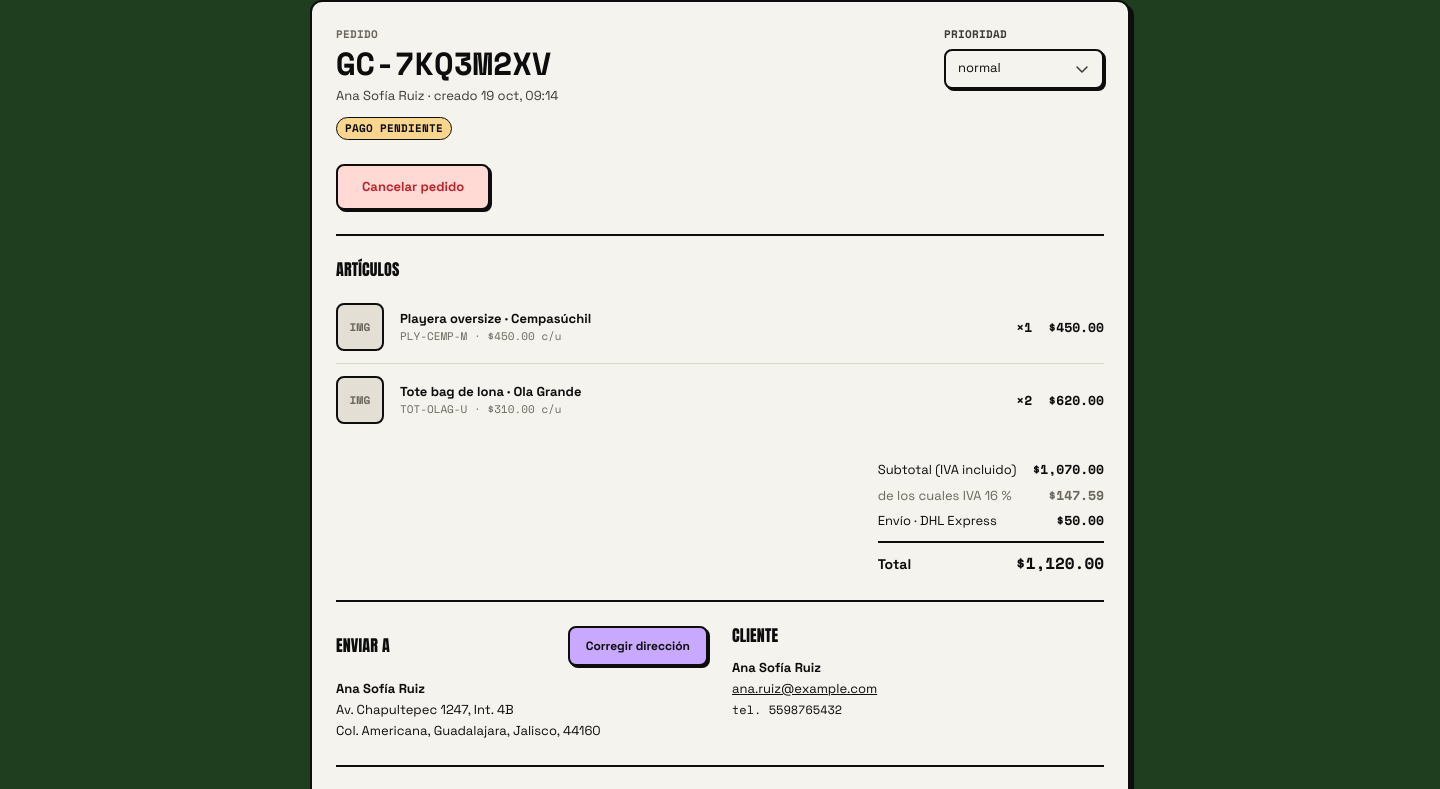
Scenario: OrderDetail: errores de la API en los diálogos › si cancelar falla, el diálogo sigue abierto y el motivo escrito no se pierde
Click the button "Cancelar pedido" at [413, 187], box [336, 164, 490, 210]
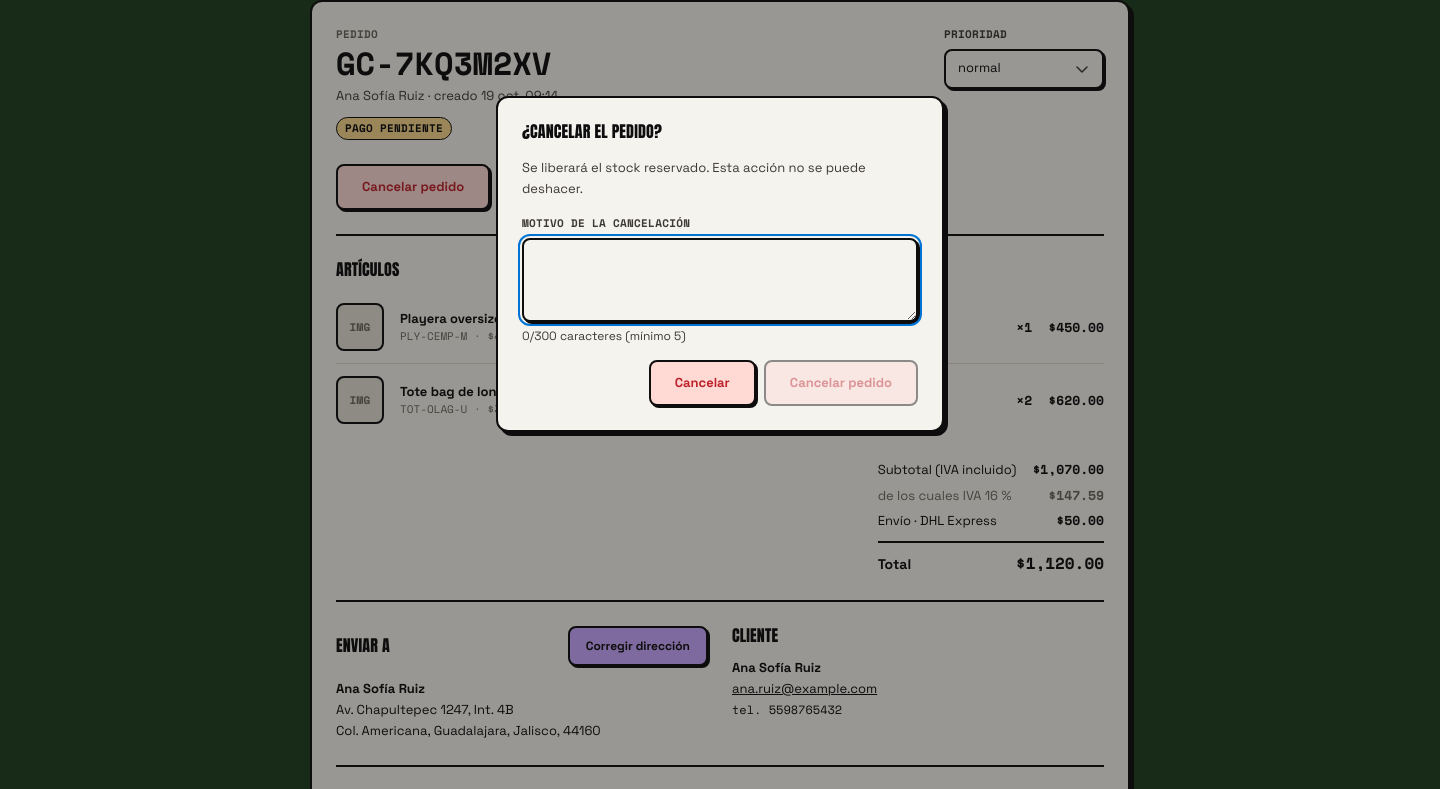
Type "El cliente lo pidió" into the text box labelled "Motivo de la cancelación" at [720, 280], box [522, 238, 918, 322]
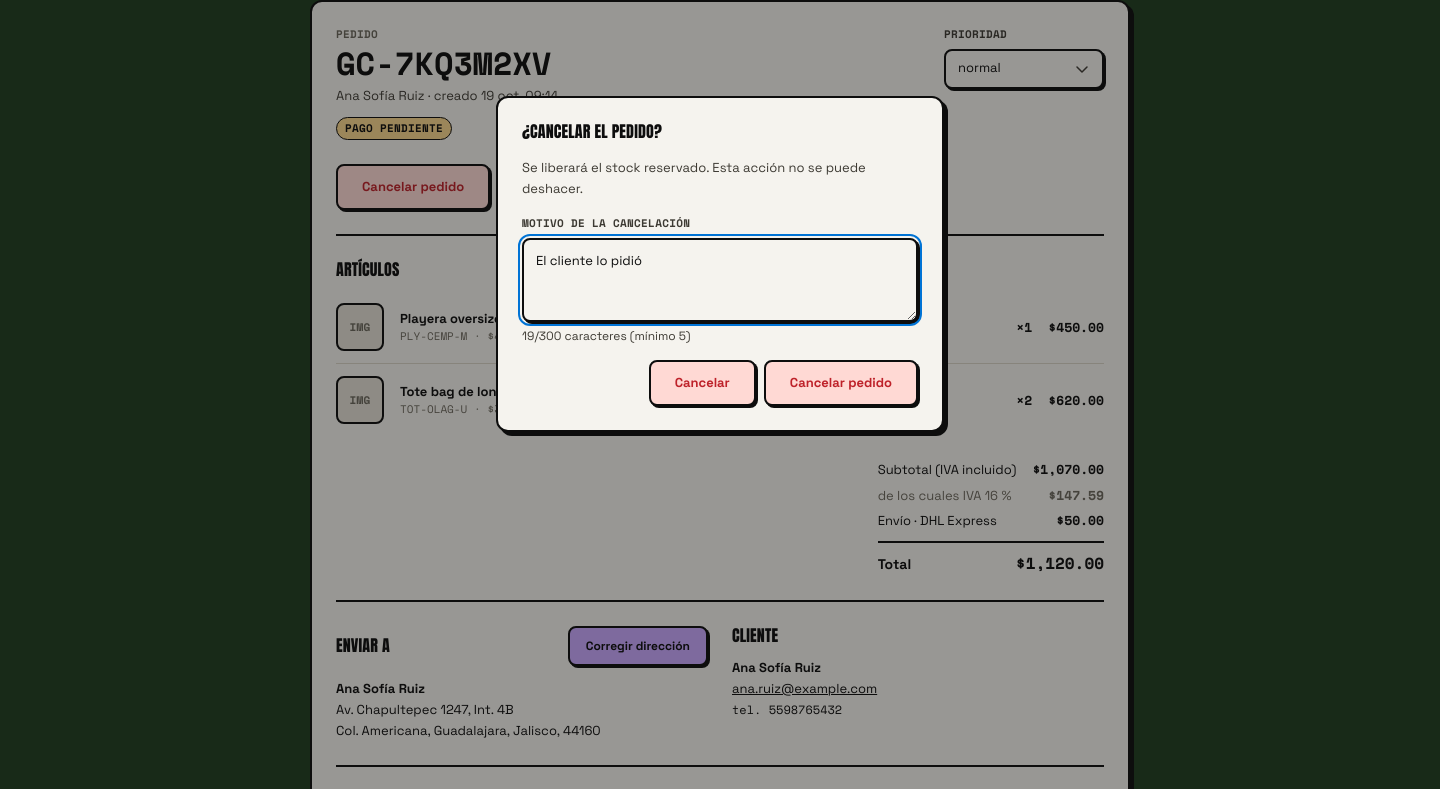
Click the button "Cancelar pedido" at [841, 383], box [764, 360, 918, 406]
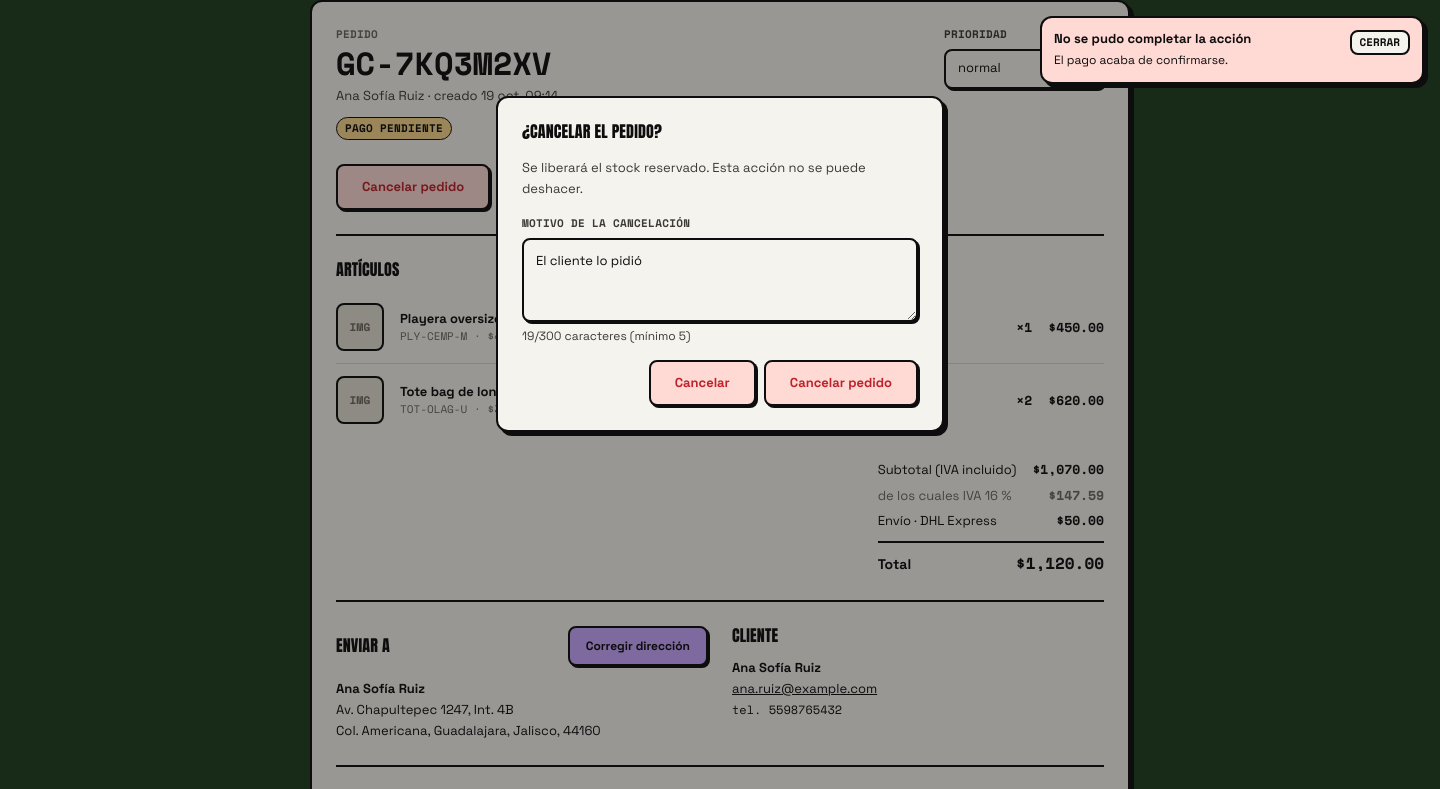
Expected: the dialog is shown, [496, 96, 944, 432]
Expected: the text "El pago acaba de confirmarse." is shown, [1054, 52, 1228, 68]
